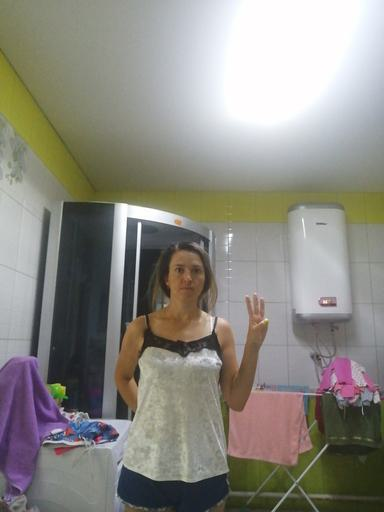three: (243, 292, 271, 346)
